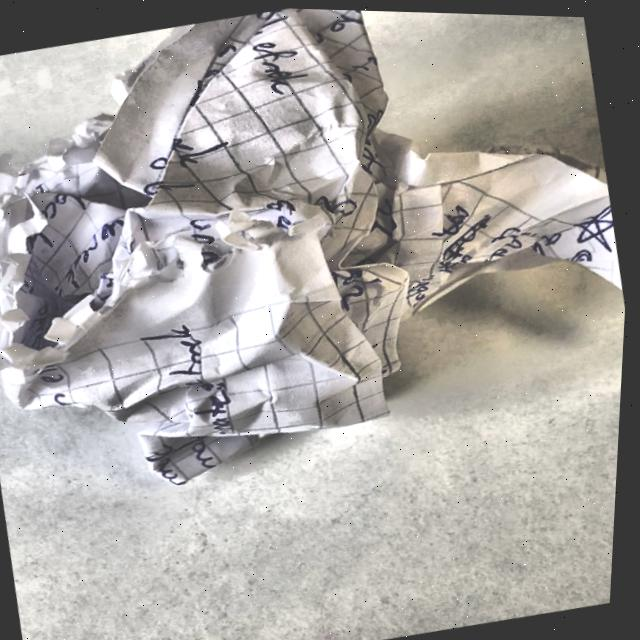paper: (0, 0, 640, 536)
